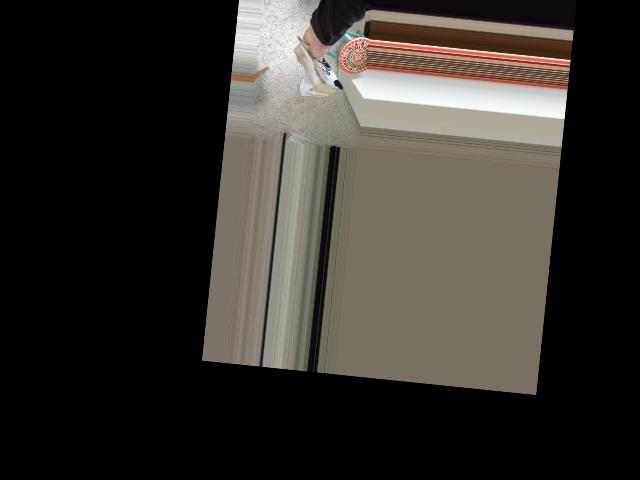cheese: (282, 24, 357, 105)
